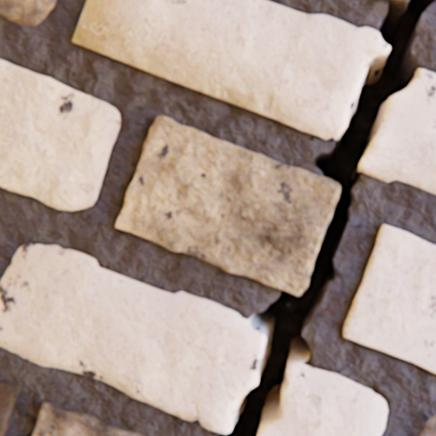brick: (117, 116, 340, 294), (0, 60, 121, 210), (343, 224, 435, 372), (33, 400, 145, 435), (0, 0, 57, 27), (0, 380, 22, 435), (418, 413, 435, 435), (384, 0, 408, 6)
broken_brick: (0, 243, 265, 432), (73, 0, 389, 139), (358, 69, 435, 194), (257, 361, 387, 435)
crack: (218, 0, 435, 435)
